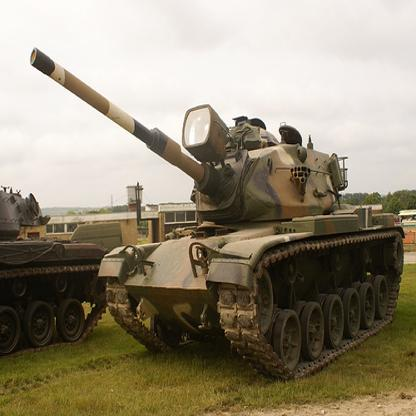Tank: (30, 47, 414, 381)
